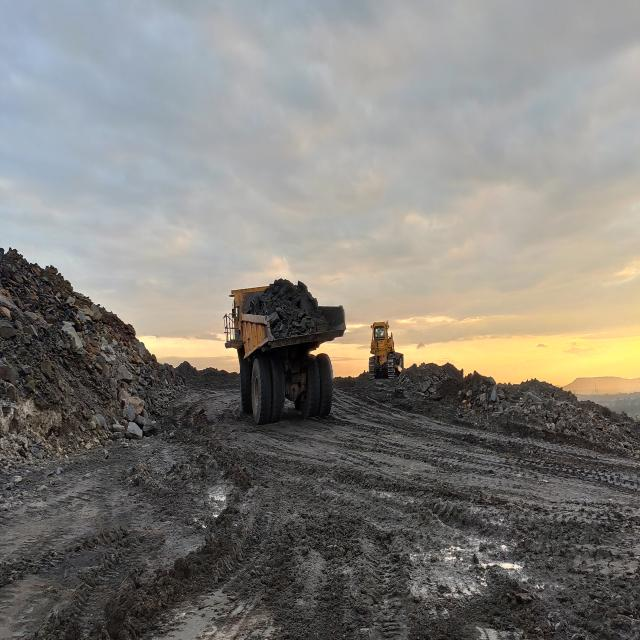buldozerpayloadergrader: (369, 322, 404, 378)
dump_truck: (225, 280, 345, 424), (251, 342, 252, 344)
